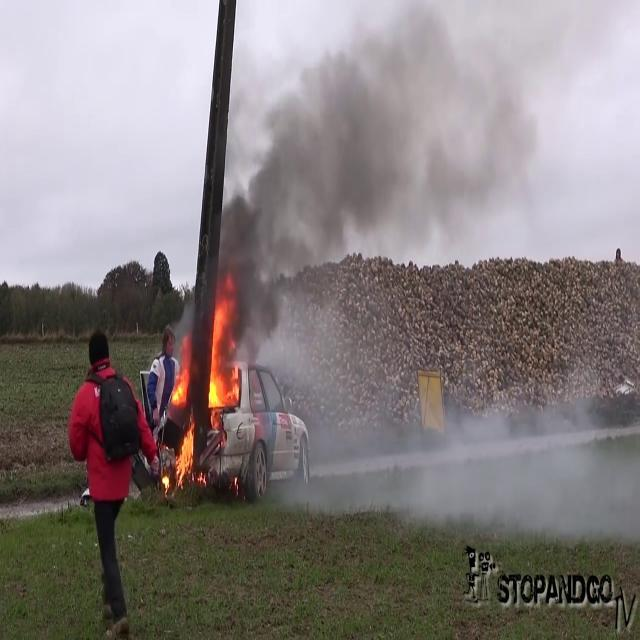Fire: (167, 324, 237, 494), (204, 277, 242, 423)
Smoke: (195, 5, 500, 342), (313, 344, 640, 520)
